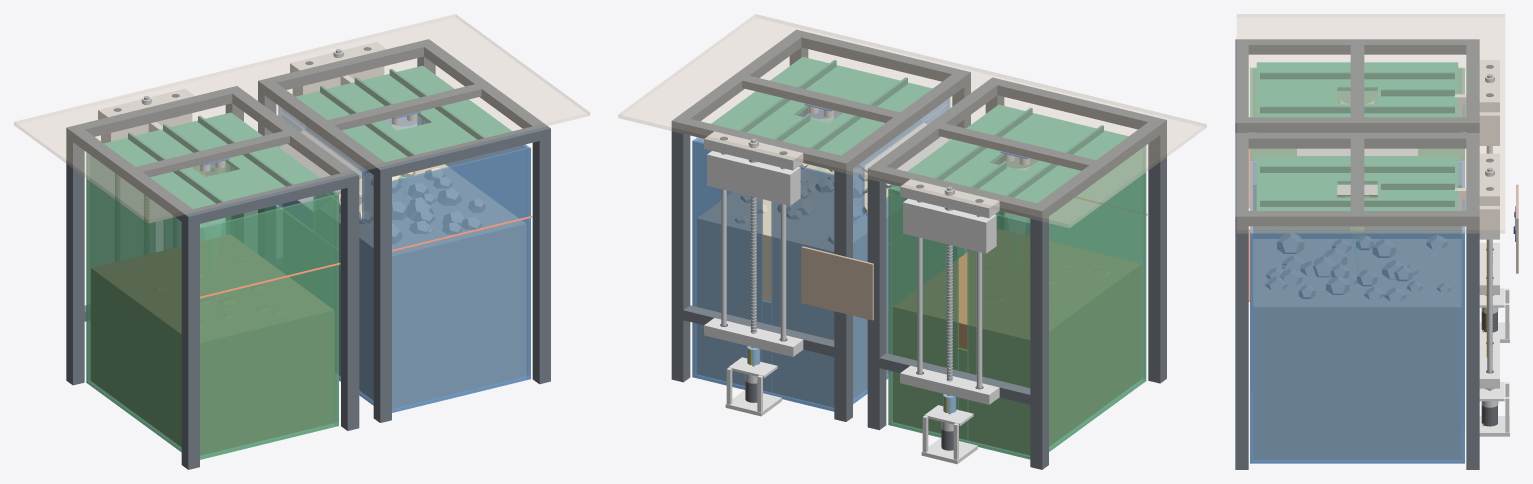
File: threaded_compactors.glb
3 renders of one model, left to right at view 1: azimuth 30°, elevation 25°; view 2: azimuth 150°, elevation 25°; view 3: azimuth 270°, elevation 25°, orthographic. The views are drawn at different scales.
Visible parts, largest first — view 1: ThreadedRodCompactors, Shelf_above_the_bins_420_mm_, WET_bin_250_x_320_x_380_, Back_slot_16_mm_neck_slides_in_it_, Press_plate_236_x_300_6_mm_plywood_, object 110, object 111, Top_bearing_block_608_bearing_2_lock_nuts, object 15, Carriage_M8_nut_2_x_LM8UU, object 105, object 115 (+2 smaller); view 2: ThreadedRodCompactors, Shelf_above_the_bins_420_mm_, WET_bin_250_x_320_x_380_, Back_slot_16_mm_neck_slides_in_it_, Press_plate_236_x_300_6_mm_plywood_, 2_x_8_mm_guide_rods, object 111, Carriage_M8_nut_2_x_LM8UU, object 105, object 110, Top_bearing_block_608_bearing_2_lock_nuts, object 19 (+7 smaller); view 3: ThreadedRodCompactors, Shelf_above_the_bins_420_mm_, Back_slot_16_mm_neck_slides_in_it_, Press_plate_236_x_300_6_mm_plywood_, object 111, object 110, WET_bin_250_x_320_x_380_, 2_x_8_mm_guide_rods, object 114, object 115, Chute_end_side_window, Top_bearing_block_608_bearing_2_lock_nuts (+9 smaller).
Boxes of the visible parts, x1,y1,x2,y2 form: ThreadedRodCompactors: [66, 39, 550, 469]; Shelf_above_the_bins_420_mm_: [14, 14, 589, 223]; WET_bin_250_x_320_x_380_: [86, 152, 340, 459]; Back_slot_16_mm_neck_slides_in_it_: [278, 105, 532, 412]; Press_plate_236_x_300_6_mm_plywood_: [104, 112, 319, 208]; object 110: [296, 65, 453, 119]; object 111: [356, 110, 511, 162]; Top_bearing_block_608_bearing_2_lock_nuts: [98, 89, 194, 119]; object 15: [290, 42, 386, 72]; Carriage_M8_nut_2_x_LM8UU: [101, 113, 192, 143]; object 105: [292, 66, 384, 96]; object 115: [389, 69, 485, 139]; ThreadedRodCompactors: [671, 29, 1166, 469]; Shelf_above_the_bins_420_mm_: [618, 14, 1206, 227]; WET_bin_250_x_320_x_380_: [888, 146, 1147, 459]; Back_slot_16_mm_neck_slides_in_it_: [692, 98, 950, 411]; Press_plate_236_x_300_6_mm_plywood_: [907, 104, 1128, 203]; 2_x_8_mm_guide_rods: [900, 188, 999, 464]; object 111: [770, 57, 932, 112]; Carriage_M8_nut_2_x_LM8UU: [903, 198, 996, 253]; object 105: [707, 151, 800, 205]; object 110: [711, 102, 870, 155]; Top_bearing_block_608_bearing_2_lock_nuts: [900, 179, 999, 218]; object 19: [704, 318, 803, 356]; ThreadedRodCompactors: [1235, 39, 1518, 469]; Shelf_above_the_bins_420_mm_: [1237, 14, 1504, 233]; Back_slot_16_mm_neck_slides_in_it_: [1248, 161, 1464, 463]; Press_plate_236_x_300_6_mm_plywood_: [1256, 62, 1458, 132]; object 111: [1256, 156, 1337, 226]; object 110: [1377, 156, 1458, 226]; WET_bin_250_x_320_x_380_: [1248, 67, 1464, 208]; 2_x_8_mm_guide_rods: [1479, 76, 1509, 342]; object 114: [1260, 165, 1454, 172]; object 115: [1260, 200, 1454, 206]; Chute_end_side_window: [1297, 148, 1417, 196]; Top_bearing_block_608_bearing_2_lock_nuts: [1479, 60, 1499, 112].
Size of the model in its own units: 760 by 426 by 422.
